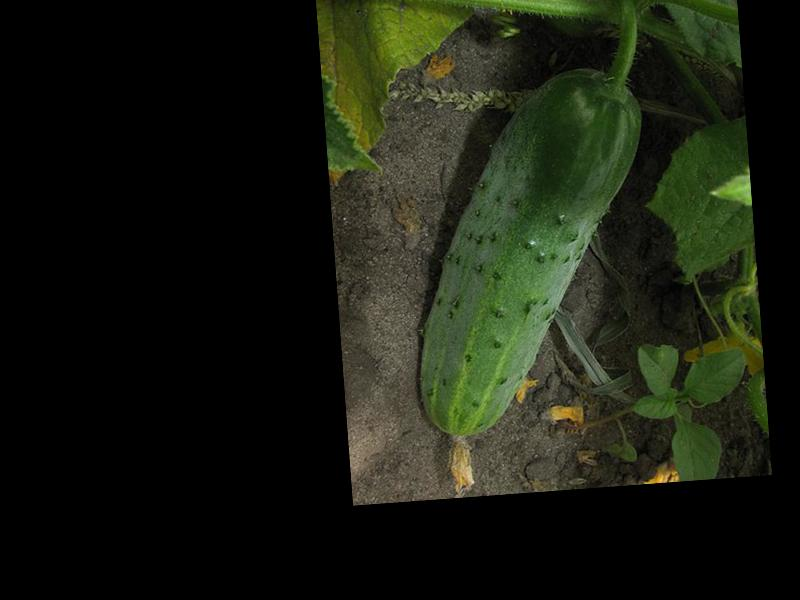Cucumber: (395, 65, 667, 495)
